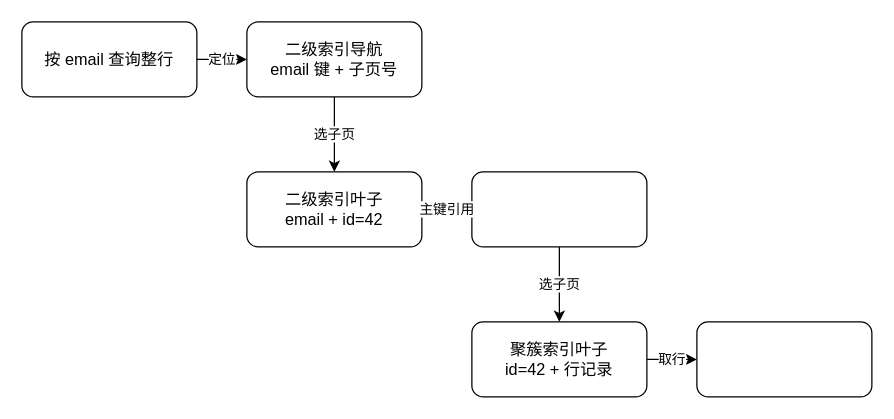
Image size: 894x419. Some labels were removed from this diagram. Here are the shapes that lost their labels. From the top down, the box of each, then its label:
(471, 171, 647, 247): 按主键回表 id 键 + 子页号
(696, 321, 872, 397): 返回所需列
